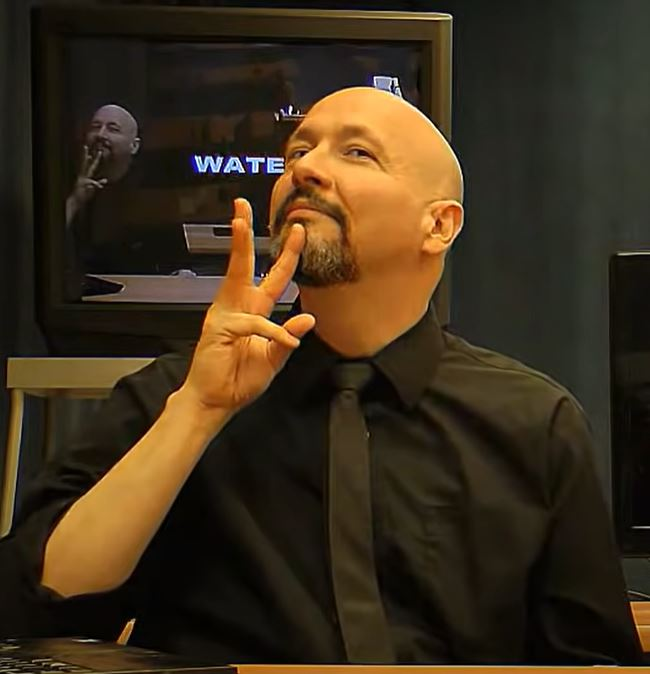Water: (153, 182, 356, 423)
